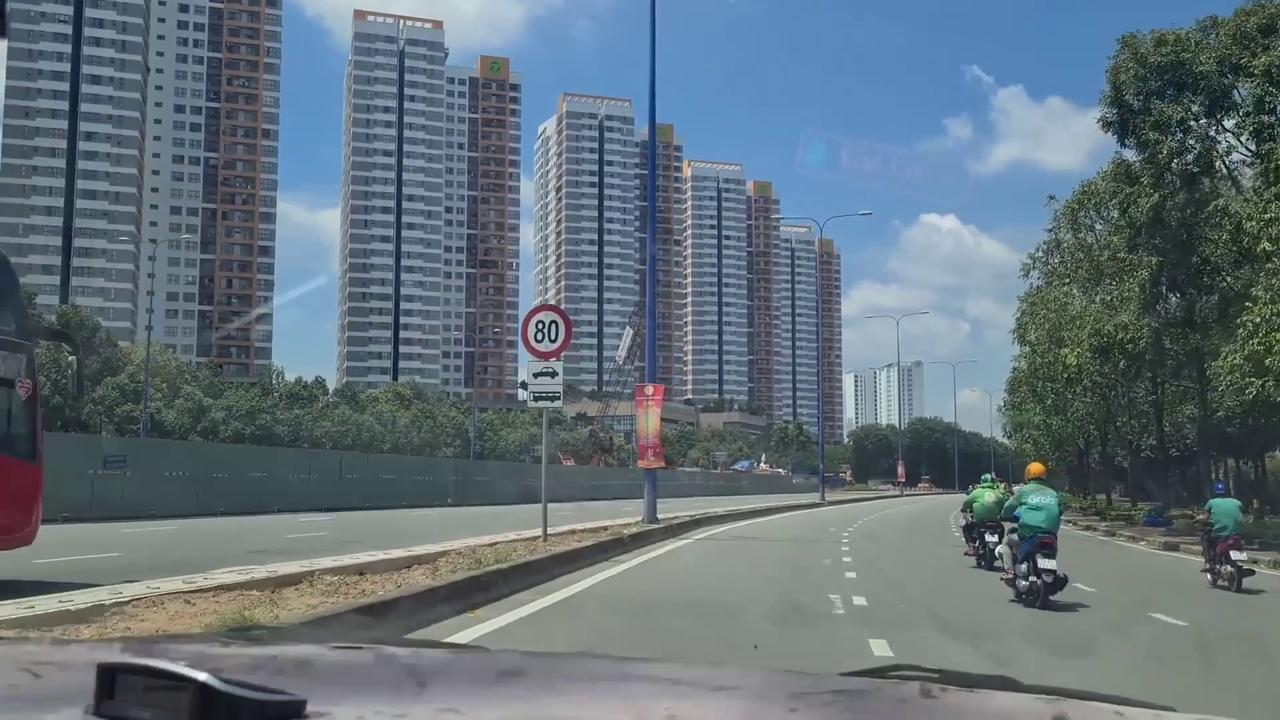Biển phụ: (524, 357, 566, 410)
Giới hạn tốc độ 80Km/h: (519, 300, 573, 361)
